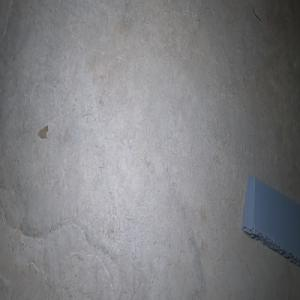PlasticPart: (241, 174, 300, 267)
